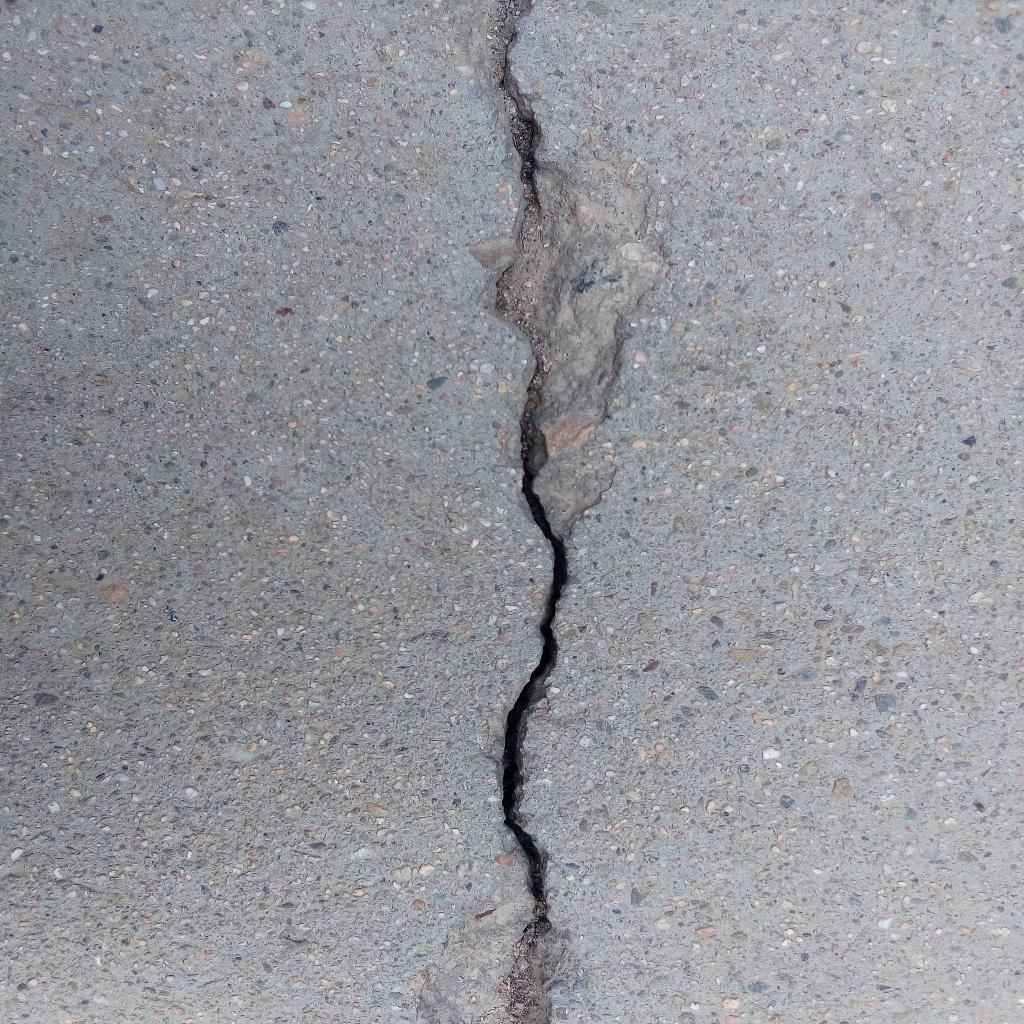Crack: (491, 1, 570, 1024)
Spalling: (495, 135, 667, 540)
